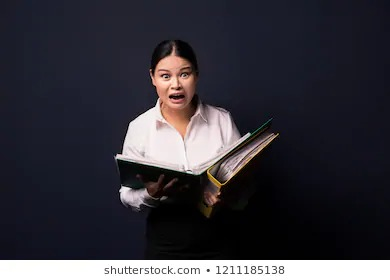S_blouse: (113, 97, 242, 208)
